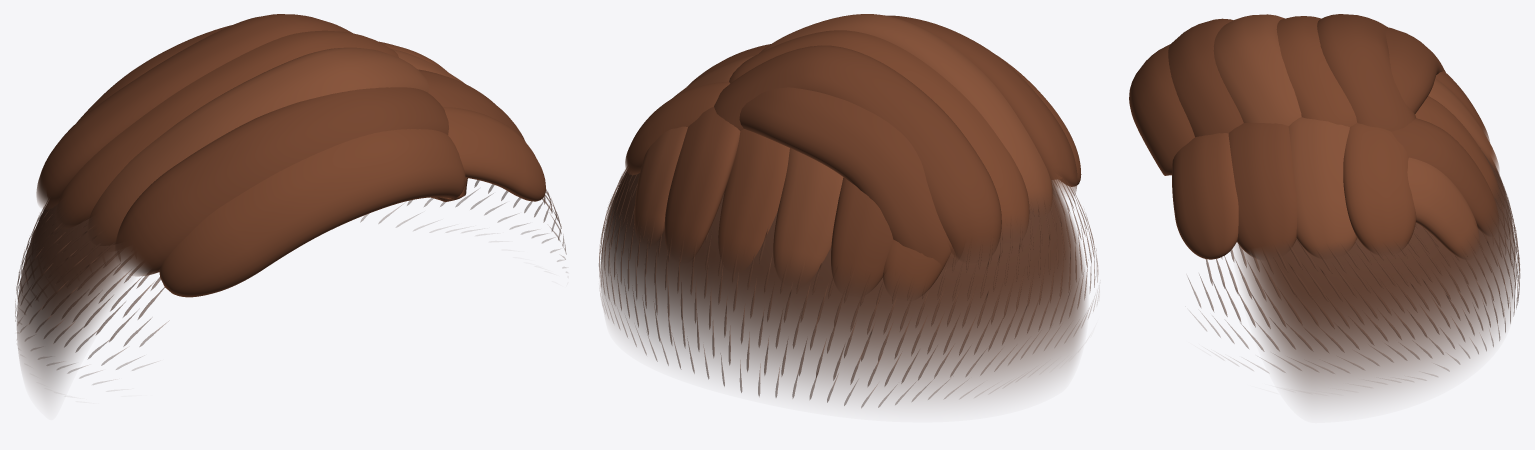
File: Masculine-taper-ears259-hair.glb
The picture shows the model from 3 angles, left to right: view 1: azimuth 30°, elevation 25°; view 2: azimuth 150°, elevation 25°; view 3: azimuth 270°, elevation 25°; orthographic projection. The views are drawn at different scales.
Parts seen in each view (by area): view 1: 226 hair / Hair258 / sculpted side sweep 1, 226 hair / Hair258 / sculpted side sweep 0, 226 hair / Hair258 / sculpted side sweep 2, 226 hair / Hair258 / smooth side fade, 226 hair / Hair259 / directional fade marks214; view 2: 226 hair / Hair258 / smooth side fade, 226 hair / Hair258 / sculpted side sweep 0, 226 hair / Hair258 / sculpted side sweep 1, 226 hair / Hair258 / sculpted side sweep 2, 226 hair / Hair259 / directional fade marks214; view 3: 226 hair / Hair258 / smooth side fade, 226 hair / Hair258 / sculpted side sweep 0, 226 hair / Hair258 / sculpted side sweep 1, 226 hair / Hair258 / sculpted side sweep 2, 226 hair / Hair259 / directional fade marks214.
Boxes of the visible parts, left/top/right/bottom form: 226 hair / Hair258 / sculpted side sweep 1: left=56, top=30, right=545, bottom=297; 226 hair / Hair258 / sculpted side sweep 0: left=36, top=14, right=525, bottom=276; 226 hair / Hair258 / sculpted side sweep 2: left=87, top=47, right=464, bottom=245; 226 hair / Hair258 / smooth side fade: left=17, top=197, right=545, bottom=397; 226 hair / Hair259 / directional fade marks214: left=15, top=180, right=566, bottom=384; 226 hair / Hair258 / smooth side fade: left=600, top=169, right=1086, bottom=402; 226 hair / Hair258 / sculpted side sweep 0: left=664, top=15, right=1077, bottom=293; 226 hair / Hair258 / sculpted side sweep 1: left=625, top=30, right=1081, bottom=297; 226 hair / Hair258 / sculpted side sweep 2: left=634, top=14, right=1052, bottom=283; 226 hair / Hair259 / directional fade marks214: left=599, top=167, right=1099, bottom=407; 226 hair / Hair258 / smooth side fade: left=1235, top=151, right=1516, bottom=403; 226 hair / Hair258 / sculpted side sweep 0: left=1168, top=14, right=1498, bottom=259; 226 hair / Hair258 / sculpted side sweep 1: left=1129, top=16, right=1499, bottom=259; 226 hair / Hair258 / sculpted side sweep 2: left=1213, top=14, right=1499, bottom=259; 226 hair / Hair259 / directional fade marks214: left=1188, top=148, right=1520, bottom=380.
Size of the model in its own units: 0.9743 by 0.6474 by 0.7585.
